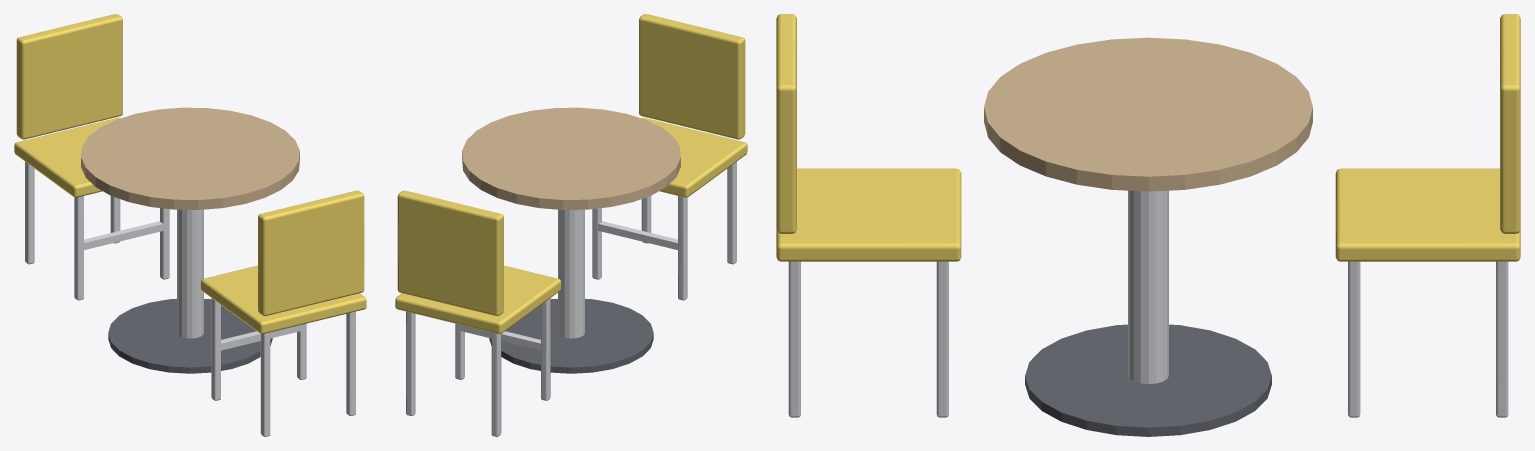
3 views of the same model, side by side, from view 1: azimuth 30°, elevation 25°; view 2: azimuth 150°, elevation 25°; view 3: azimuth 270°, elevation 25° (orthographic). The views are drawn at different scales.
Parts seen in each view (by area): view 1: cafe-table-and-chairs; view 2: cafe-table-and-chairs; view 3: cafe-table-and-chairs.
Part boxes in pixels (x1,y1,x2,y2): cafe-table-and-chairs: (14,14,366,436); cafe-table-and-chairs: (395,14,747,436); cafe-table-and-chairs: (776,14,1520,436).
Size of the model in its own units: 0.8 by 0.9 by 1.81.
